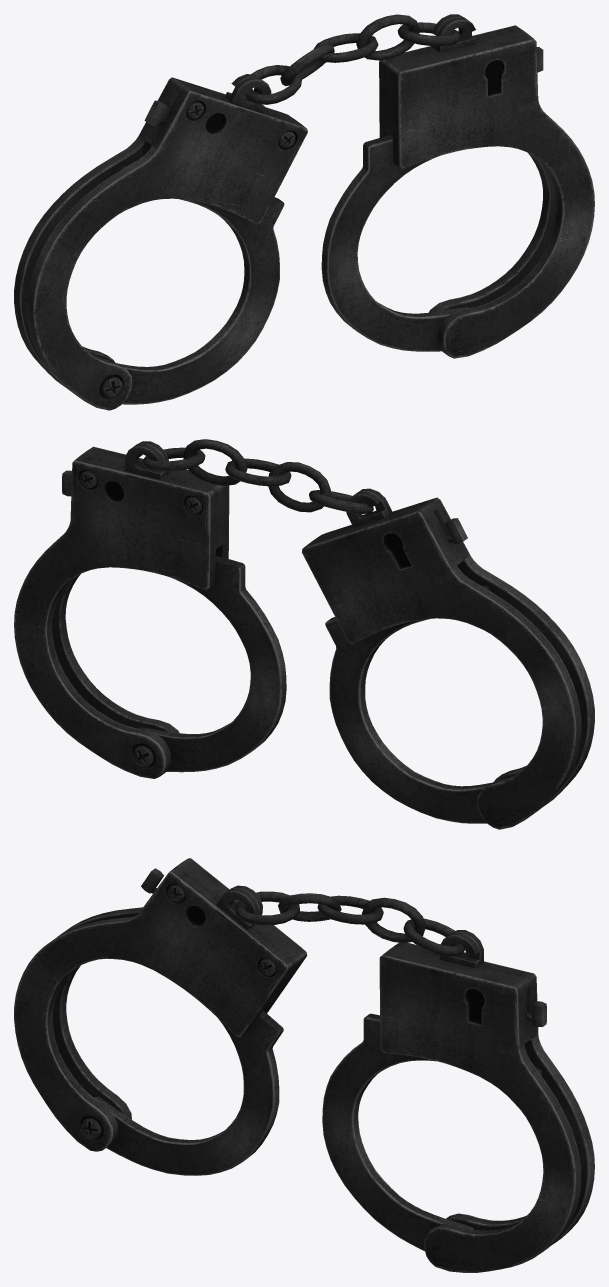
Rendered from Handcuffs.glb.
The picture shows the model from 3 angles, top to bottom: view 1: azimuth 30°, elevation 25°; view 2: azimuth 150°, elevation 25°; view 3: azimuth 330°, elevation 25°; orthographic projection.
Visible parts, largest first — view 1: node_id53; view 2: node_id53; view 3: node_id53.
Boxes of the visible parts, x1,y1,x2,y2 form: node_id53: [14, 14, 594, 410]; node_id53: [14, 439, 594, 829]; node_id53: [14, 858, 594, 1272].
Bounding box in the file's own units: 0.5447 × 0.3219 × 0.0482.
1 material, 1 textured.
